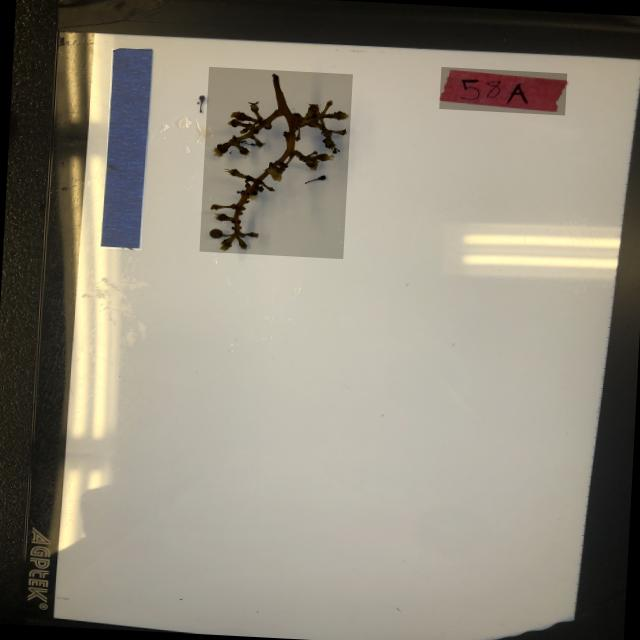index: (439, 67, 567, 116)
measure_label: (102, 48, 152, 250)
rachis_cluster: (200, 67, 352, 259)
